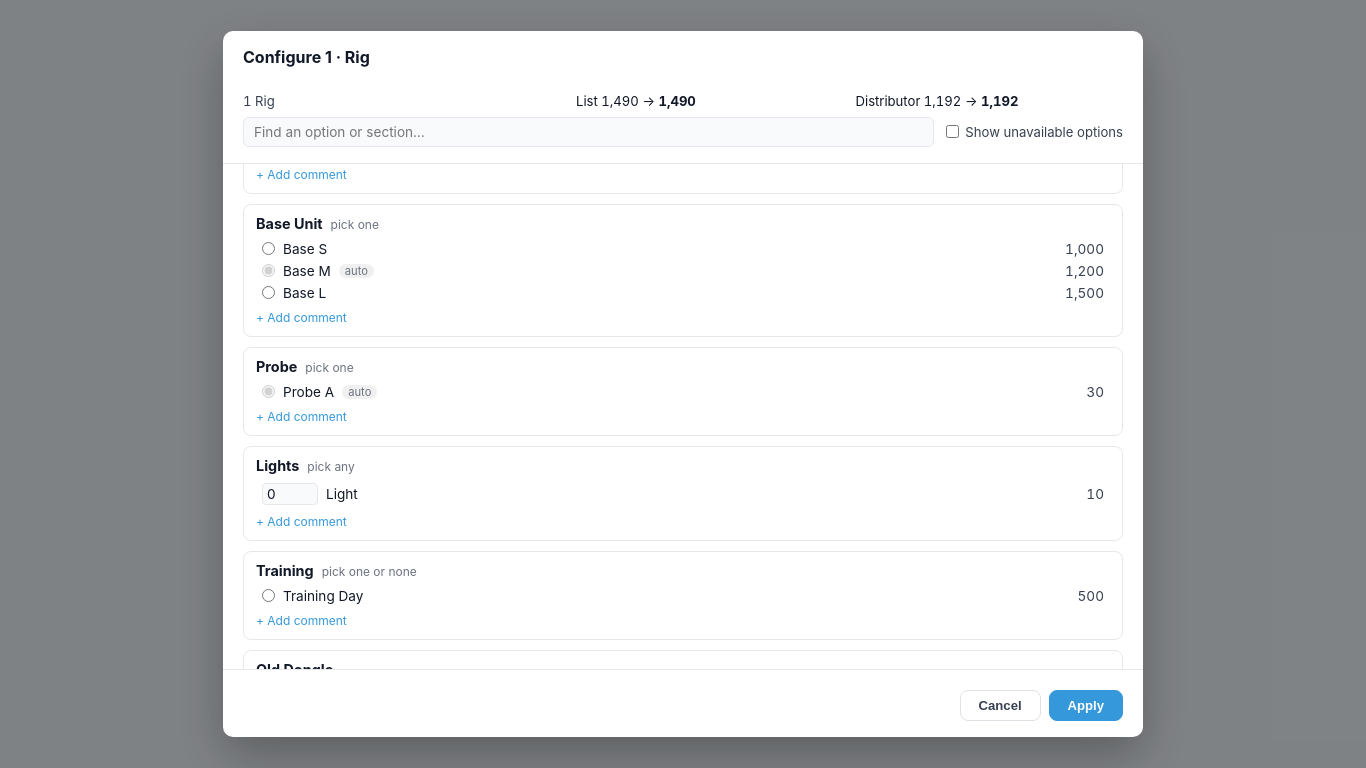
SystemEditorModal › keeps optional comment boxes one click away
The width and height of the screenshot is (1366, 768).
(page scrolled)
What coordinates should you click on to do the following:
click the button "+ Add comment" below "Probe A"
I would click on:
 (301, 416)
Its box is 256,409 -> 347,424.
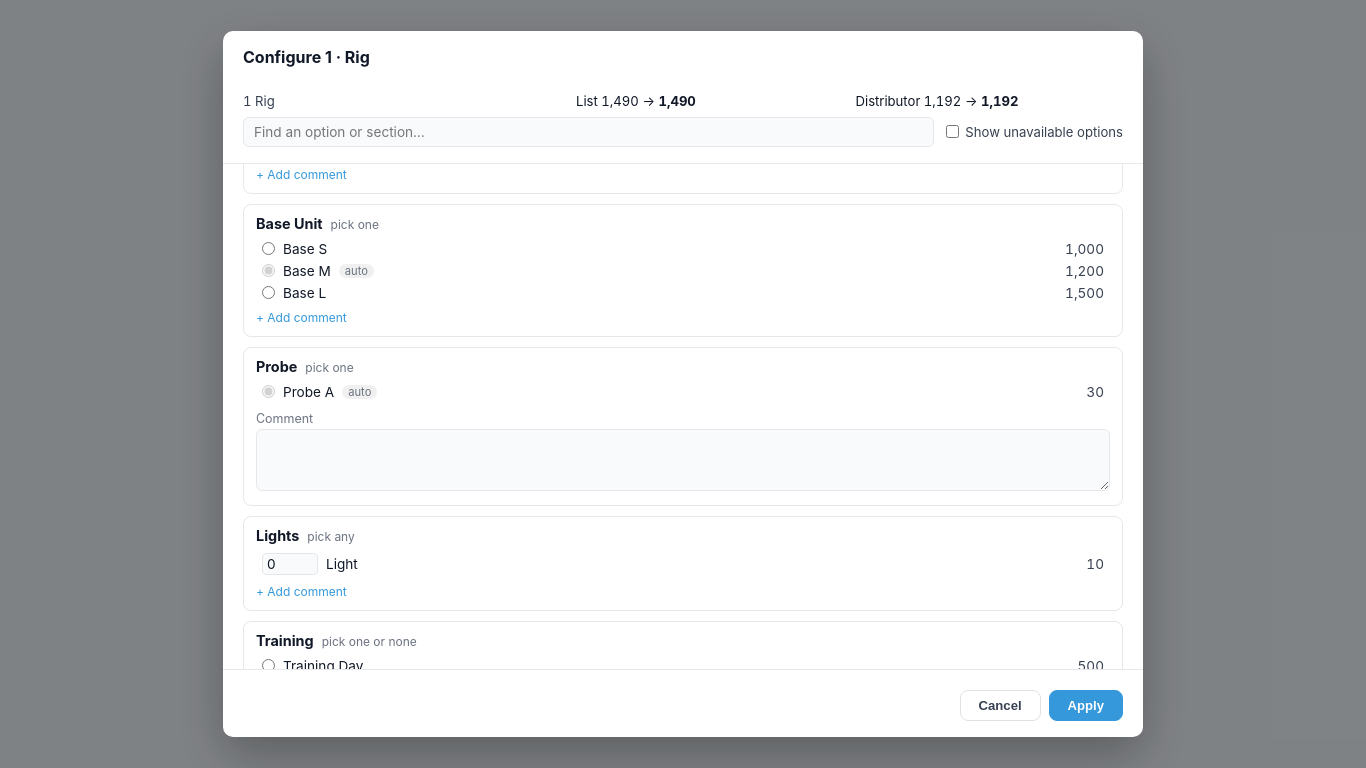
Check: the text box labelled "Comment" is shown, box 256,429 -> 1110,491
